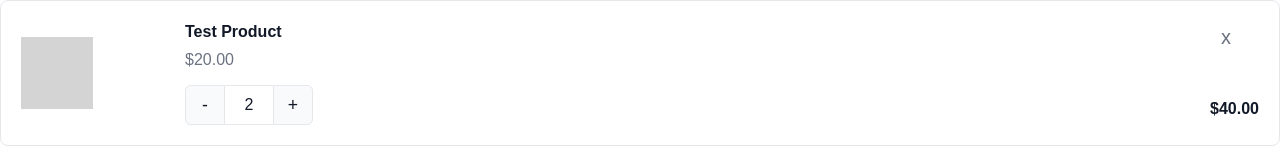
CartItem › disables the decrease button when the input is empty
Clear the number field at (249, 105), box [225,85,273,125]
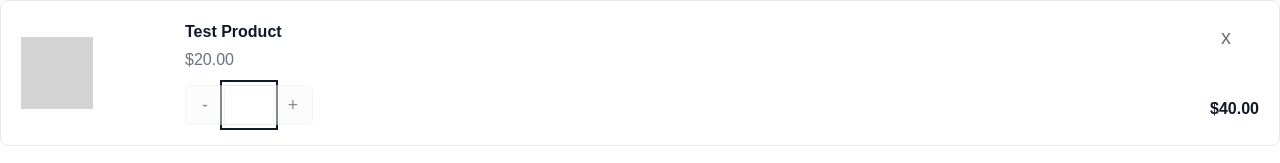
expect the button "-" is disabled: met, box [185,85,225,125]
expect the button "+" is disabled: met, box [273,85,313,125]
